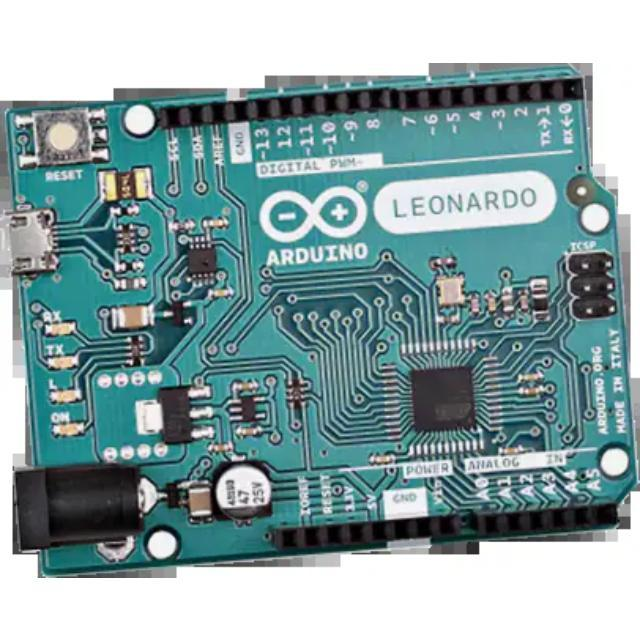Arduino-leonardo: (2, 65, 638, 577)
